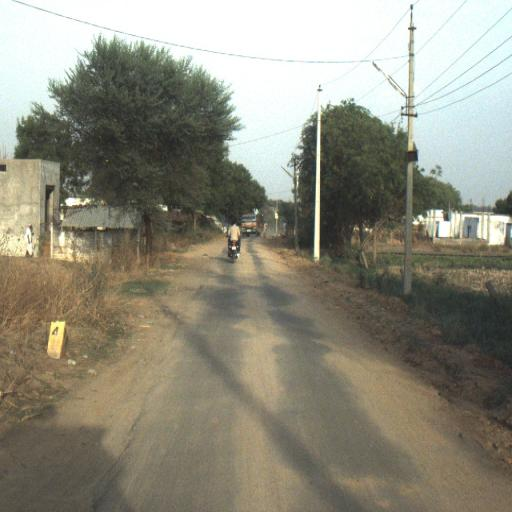street_light_0: (372, 60, 415, 116), (280, 165, 297, 189)
